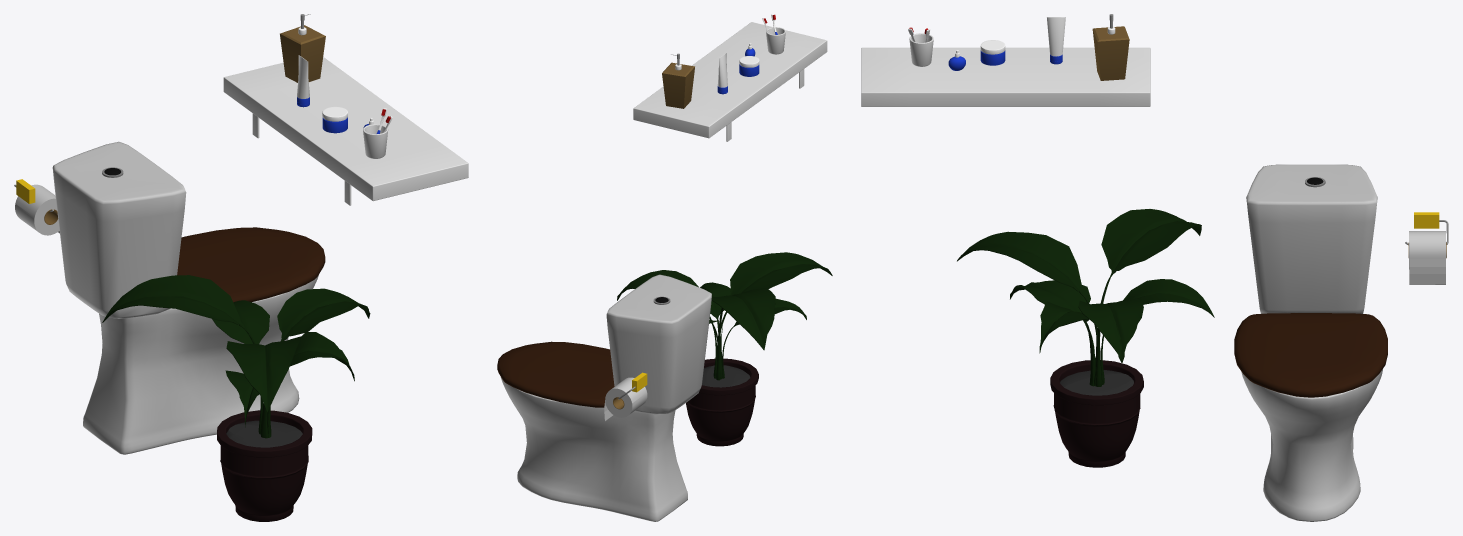
The model's file is Props_Añadidos_Baño.FBX.
The picture shows the model from 3 angles, left to right: view 1: azimuth 30°, elevation 25°; view 2: azimuth 150°, elevation 25°; view 3: azimuth 270°, elevation 25°; orthographic projection. The views are drawn at different scales.
Parts seen in each view (by area): view 1: Toilet, Plantas, Balda, Disp_Jabon, Papel_Higienico, Vaso, Bote_Crema_1, Bote_Crema_002; view 2: Toilet, Plantas, Balda, Papel_Higienico, Disp_Jabon, Vaso, Bote_Crema_1; view 3: Toilet, Plantas, Balda, Papel_Higienico, Disp_Jabon, Bote_Crema_002, Vaso.
Part boxes in pixels (bbox=[...]): Toilet: bbox=[52, 141, 325, 454]; Plantas: bbox=[102, 275, 370, 521]; Balda: bbox=[223, 57, 468, 205]; Disp_Jabon: bbox=[280, 14, 325, 82]; Papel_Higienico: bbox=[14, 179, 59, 235]; Vaso: bbox=[363, 124, 388, 158]; Bote_Crema_1: bbox=[322, 106, 347, 133]; Bote_Crema_002: bbox=[297, 55, 309, 107]; Toilet: bbox=[497, 274, 711, 521]; Plantas: bbox=[617, 252, 832, 446]; Balda: bbox=[633, 22, 827, 141]; Papel_Higienico: bbox=[604, 372, 647, 420]; Disp_Jabon: bbox=[662, 53, 694, 108]; Vaso: bbox=[766, 27, 785, 54]; Bote_Crema_1: bbox=[739, 56, 759, 76]; Toilet: bbox=[1234, 164, 1387, 521]; Plantas: bbox=[957, 209, 1214, 467]; Balda: bbox=[861, 47, 1150, 106]; Papel_Higienico: bbox=[1405, 212, 1448, 284]; Disp_Jabon: bbox=[1092, 14, 1129, 80]; Bote_Crema_002: bbox=[1047, 17, 1065, 64]; Vaso: bbox=[909, 33, 933, 66].
Bounding box in the file's own units: 627 × 1047 × 1205.
